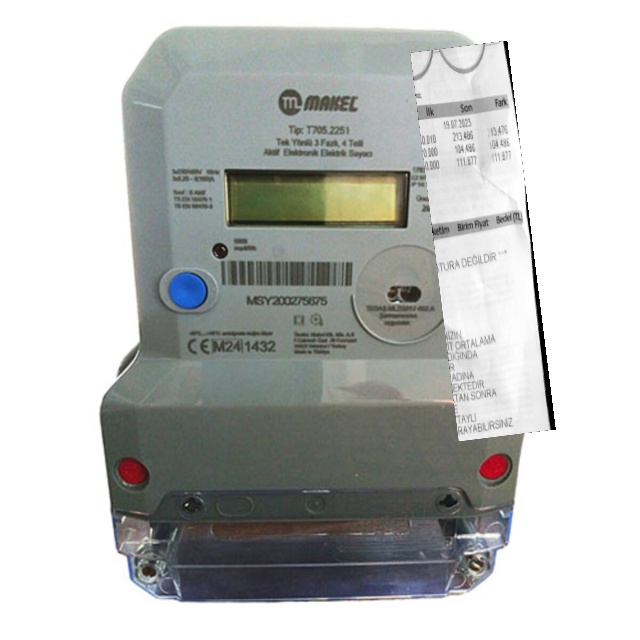electricity-bill: (409, 41, 555, 442)
